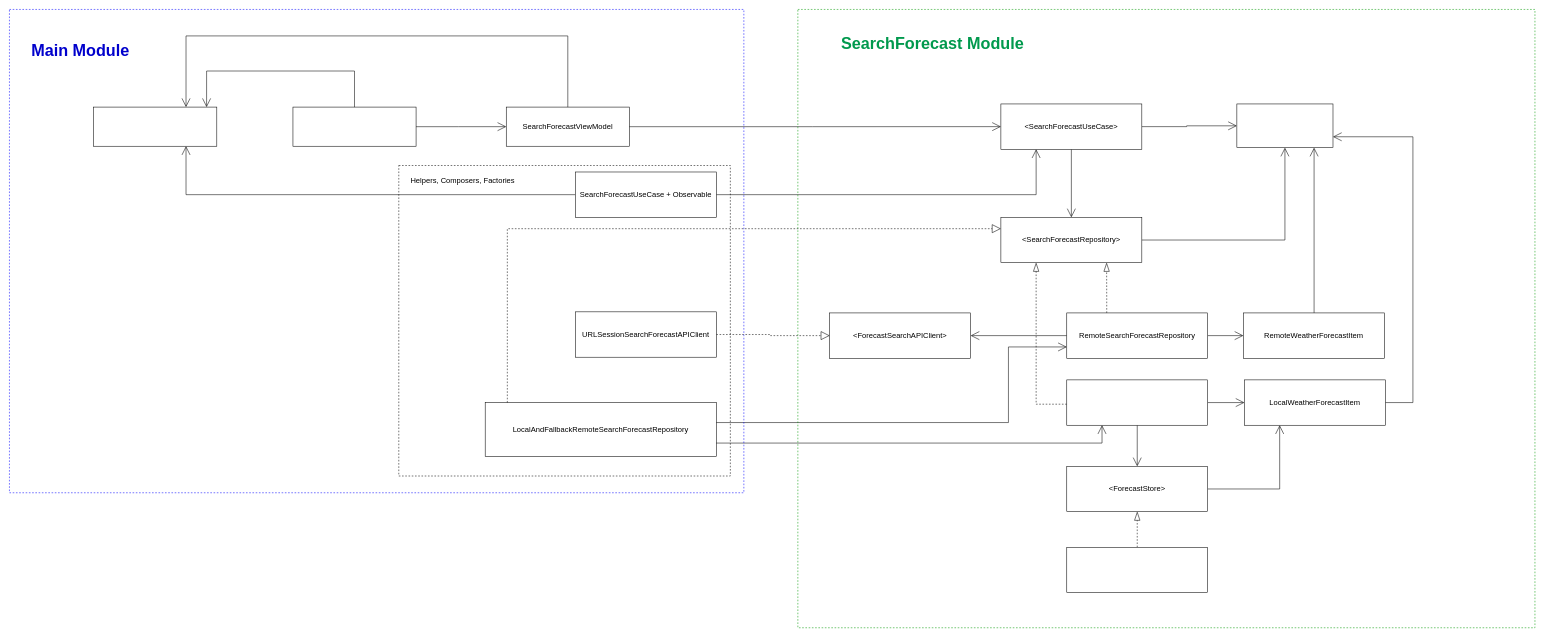
This 1544x637 diagram has some shape labels left out. Here are the shapes that lost their labels. From the top down, the box of each, then its label:
(93, 107, 217, 146): Rx frameworks
(292, 107, 416, 146): SearchForecastViewController
(1236, 103, 1333, 148): WeatherForecastItem
(1066, 379, 1208, 425): LocalSearchForecastRepository
(1066, 547, 1208, 593): InMemoryForecastStore
